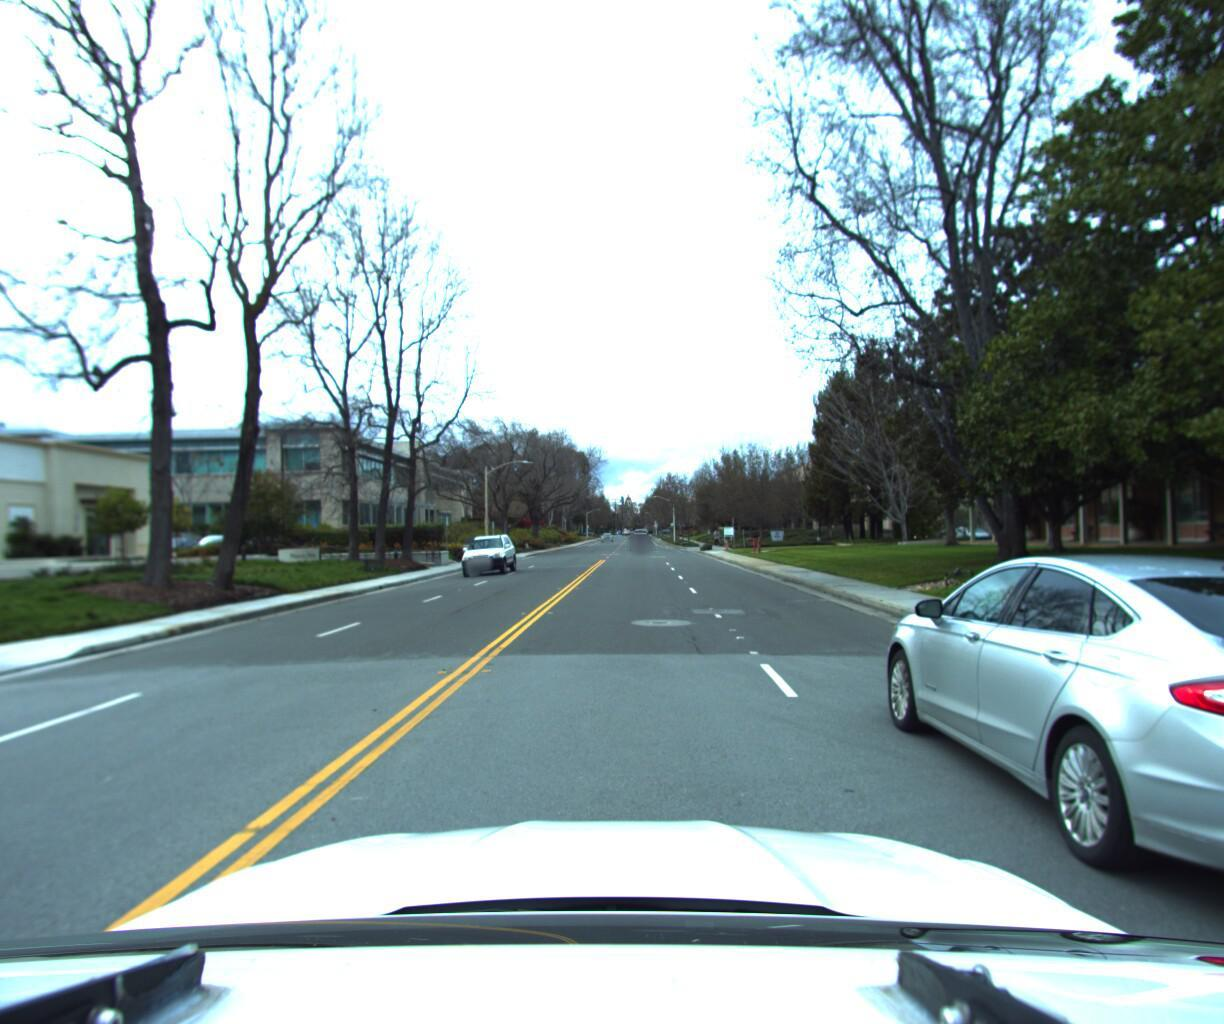car: (858, 482, 1224, 1002), (456, 529, 519, 573), (630, 528, 650, 547)
